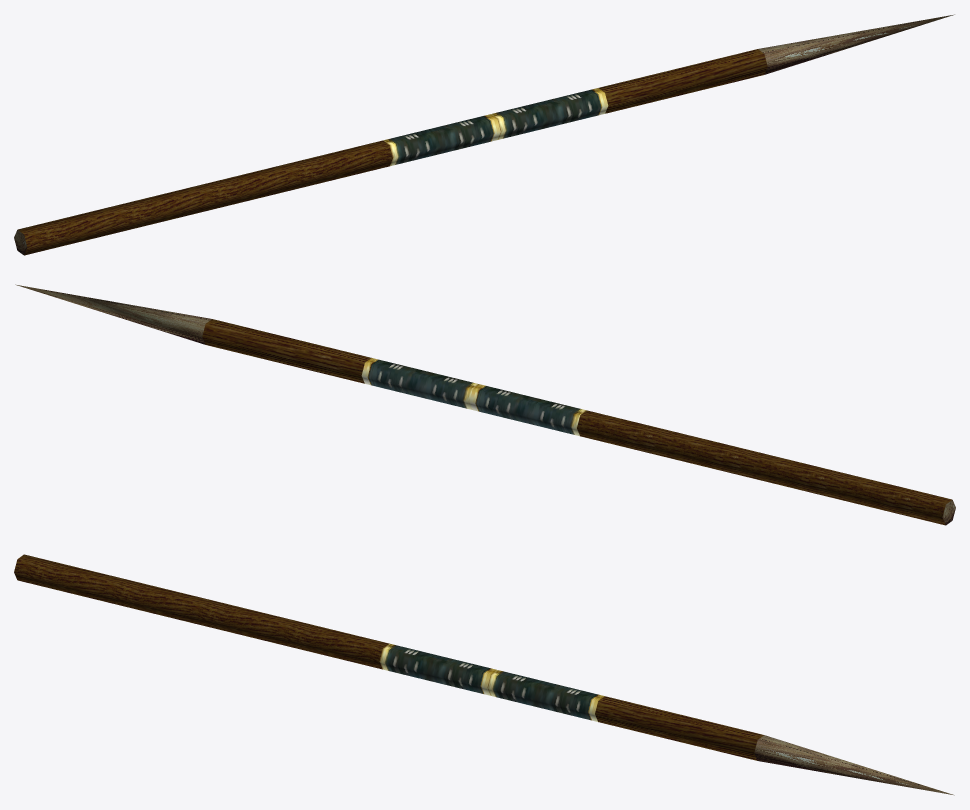
3 views of the same model, one above another, from view 1: azimuth 30°, elevation 25°; view 2: azimuth 150°, elevation 25°; view 3: azimuth 330°, elevation 25° (orthographic).
Visible parts, largest first — view 1: it10104; view 2: it10104; view 3: it10104.
Part boxes in pixels (bbox=[...]): it10104: bbox=[14, 14, 954, 255]; it10104: bbox=[15, 284, 955, 525]; it10104: bbox=[14, 554, 954, 795].
Bounding box in the file's own units: 4.02 × 0.0864 × 0.1001.
Materials: 3 (3 with a texture image).
